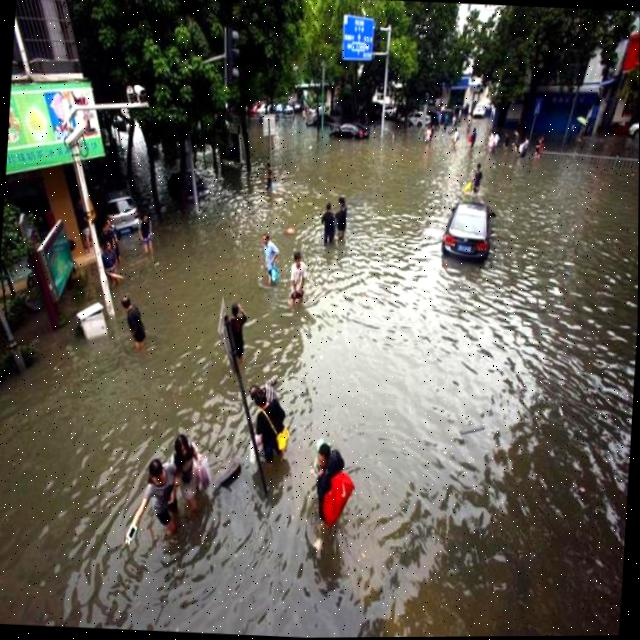civilian: (302, 430, 363, 535), (242, 382, 299, 475), (169, 432, 216, 508), (141, 455, 185, 536), (221, 292, 257, 365), (113, 294, 157, 350), (253, 226, 288, 283), (288, 250, 317, 306), (315, 199, 344, 255), (96, 222, 126, 272), (130, 209, 163, 254), (100, 245, 128, 291), (466, 160, 495, 199), (334, 193, 354, 237), (262, 160, 278, 197), (468, 123, 481, 151), (534, 133, 547, 160), (518, 137, 531, 161), (450, 127, 461, 154), (441, 110, 452, 136), (423, 123, 433, 146), (501, 130, 511, 151), (451, 114, 459, 132)
